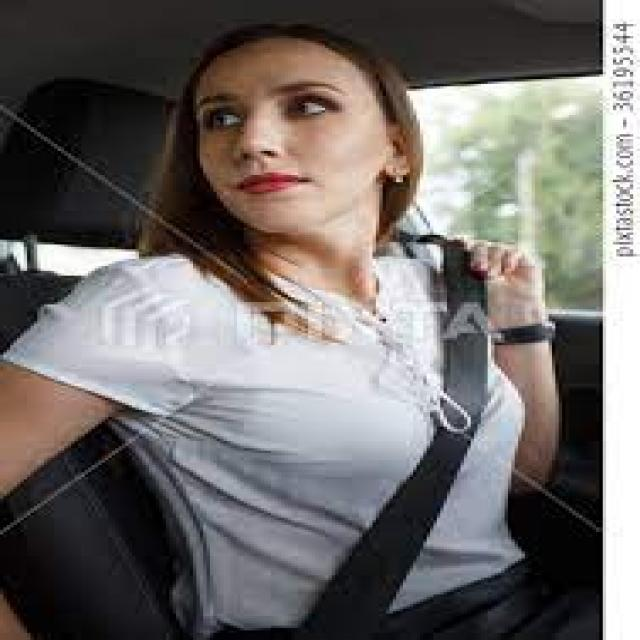seatbelt: (298, 206, 498, 640)
